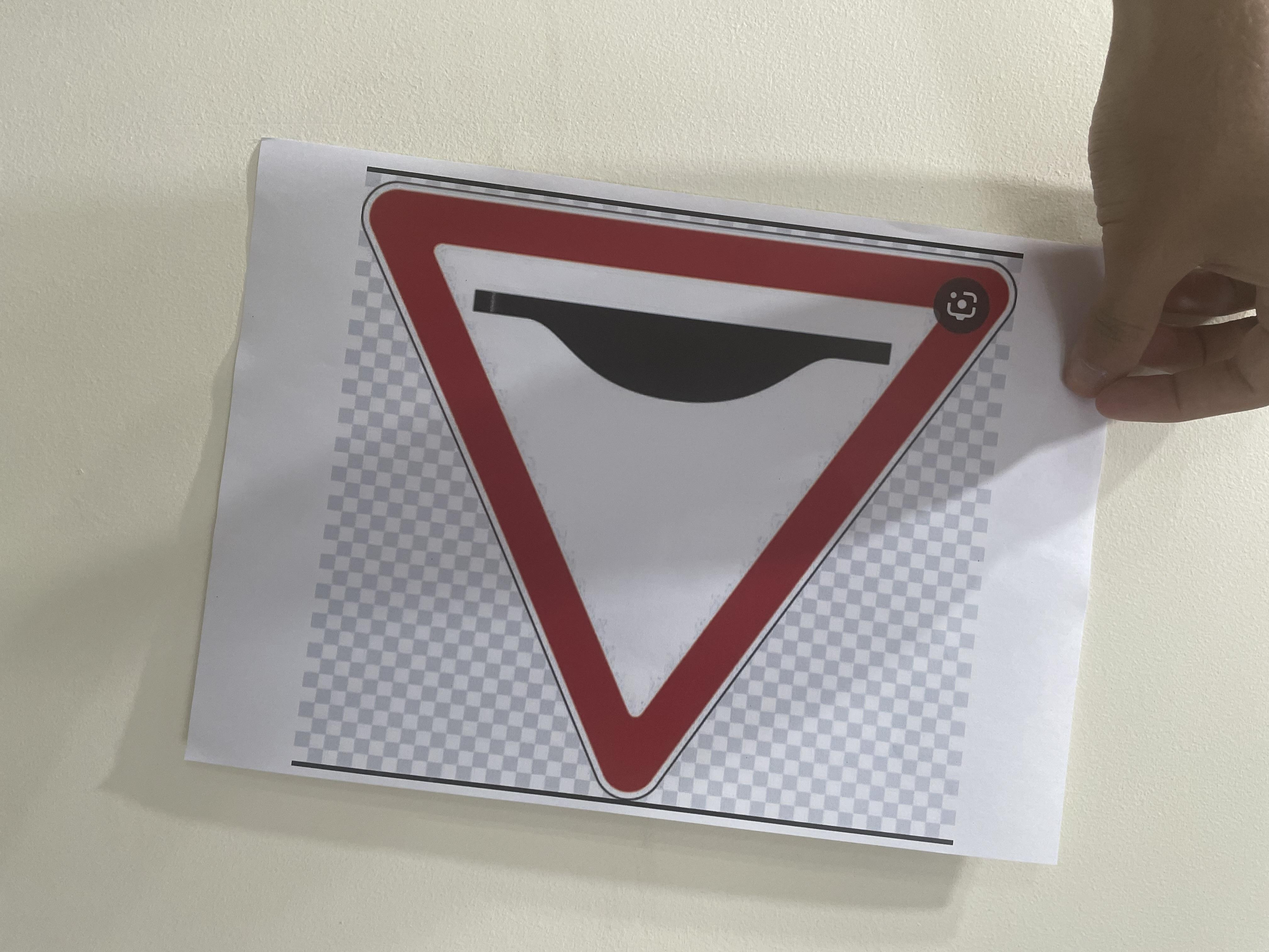Hump: (254, 152, 1088, 700)
